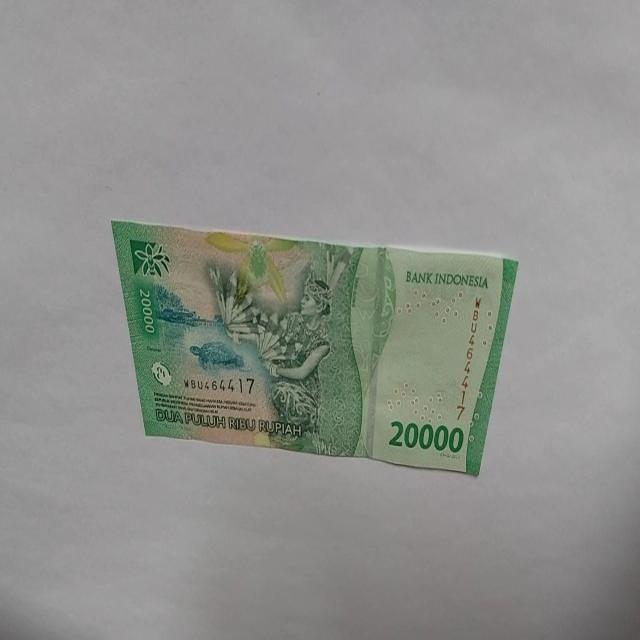dua puluh ribu rupiah: (110, 217, 519, 477)
